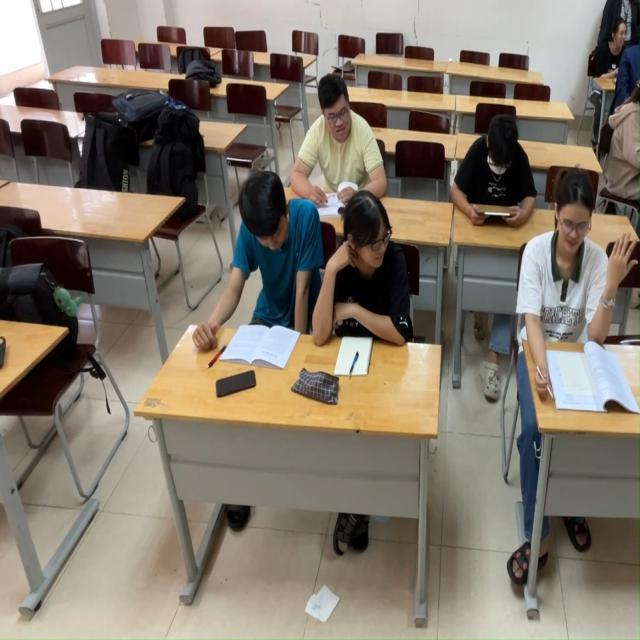raise_hand: (517, 177, 640, 417)
read: (201, 147, 307, 394), (288, 69, 391, 218), (443, 109, 545, 243)
